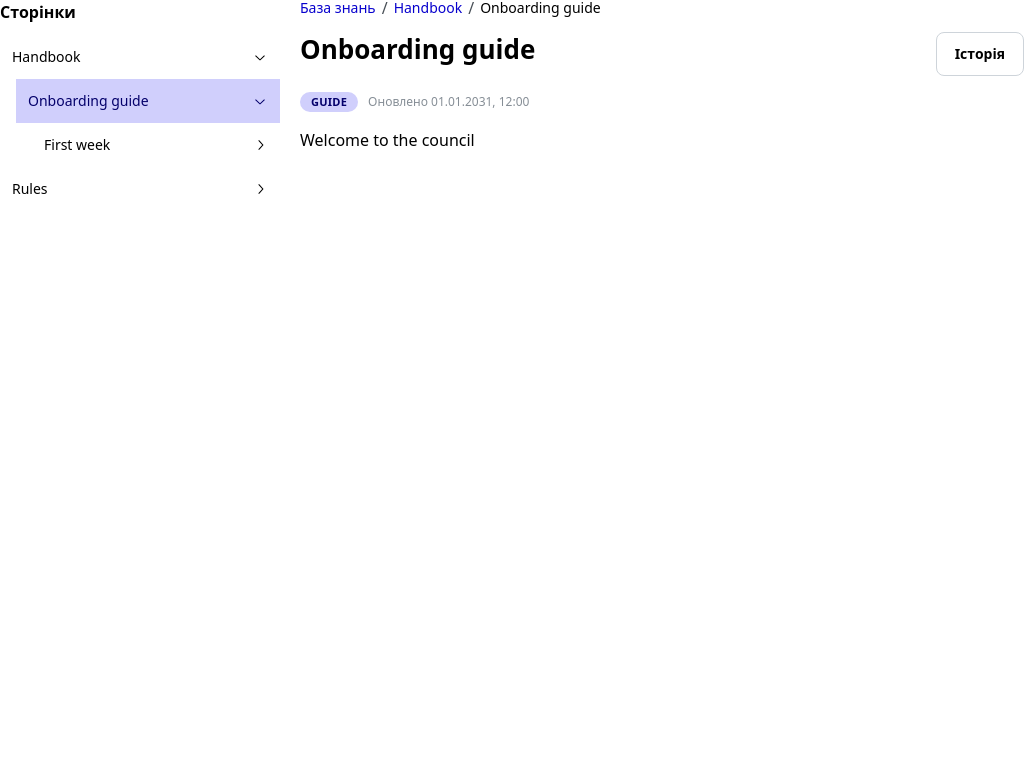
Test: version history › hides restore without kb.edit
The width and height of the screenshot is (1024, 768).
Click the button "Історія" at (980, 54), box x1=936 y1=32 x2=1023 y2=76
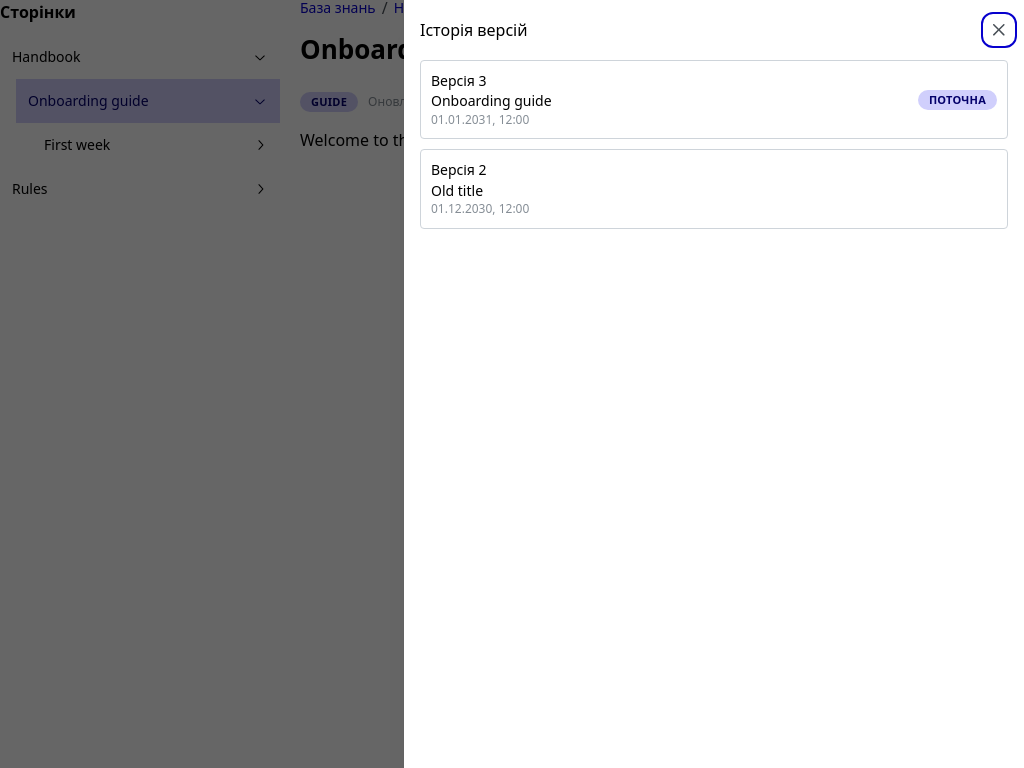
Click the text "Old title" at (457, 190), box x1=431 y1=181 x2=483 y2=200
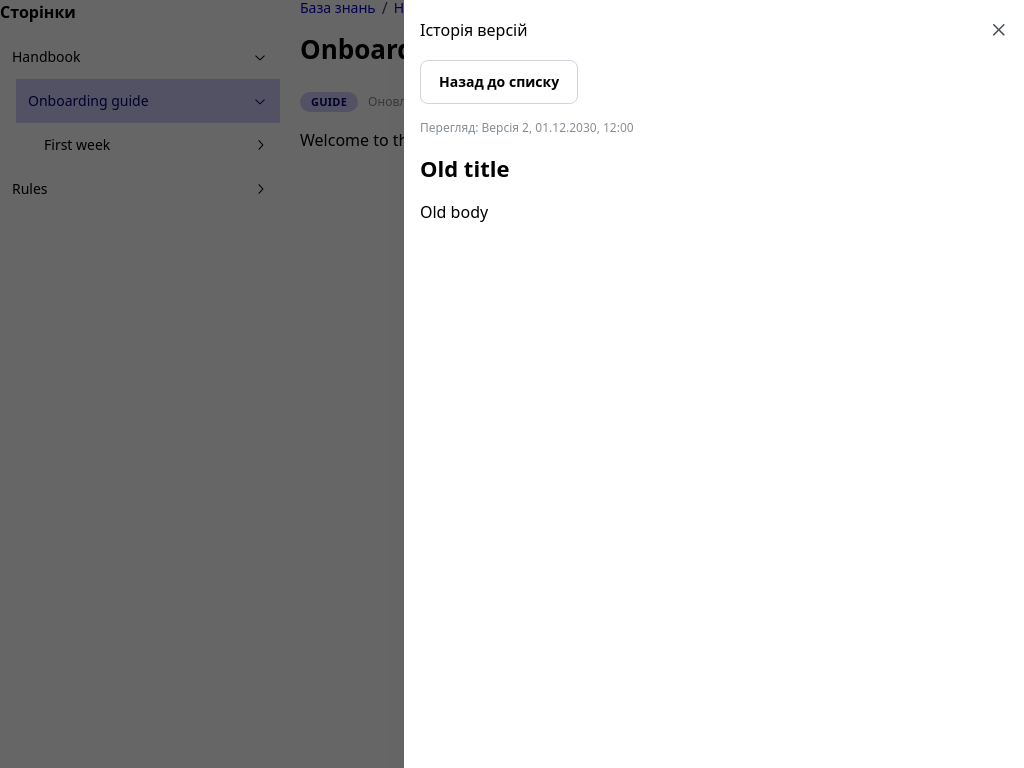
Now the text "Old body" is shown, box x1=420 y1=201 x2=488 y2=223
